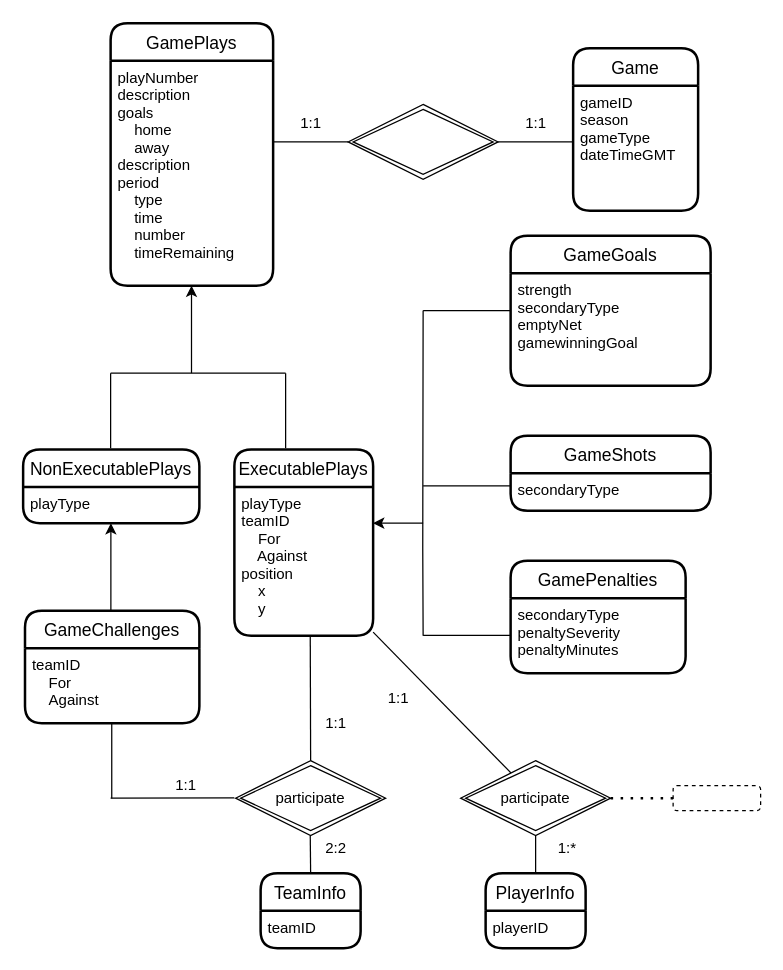
The diagram is 783 pixels wide and 970 high, and some of its shapes have lost their labels. The centre of each missing label's shape, as x and y in pixels:
"happens" belongs at (x=422, y=141).
"{playerRole}" belongs at (x=716, y=797).
